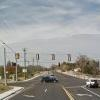Car: (39, 71, 63, 92)
